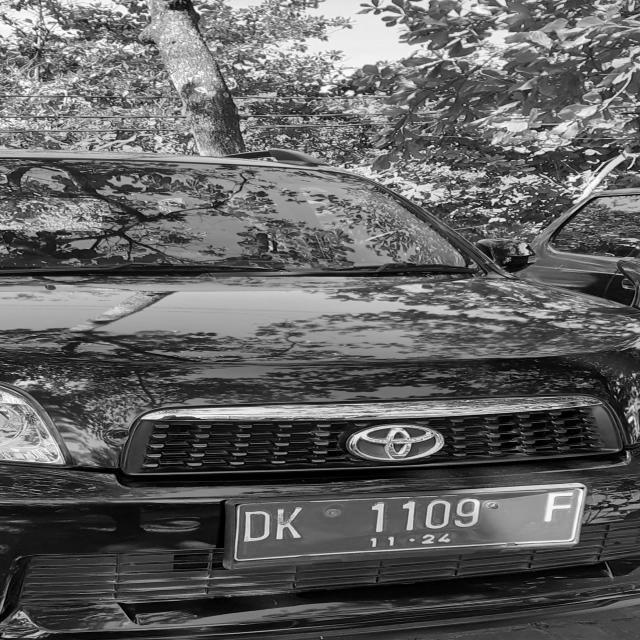0: (426, 493, 454, 542)
1: (388, 494, 426, 543), (366, 491, 388, 544)
9: (453, 490, 487, 540)
D: (243, 508, 271, 544)
F: (538, 490, 574, 530)
K: (272, 507, 304, 545)
